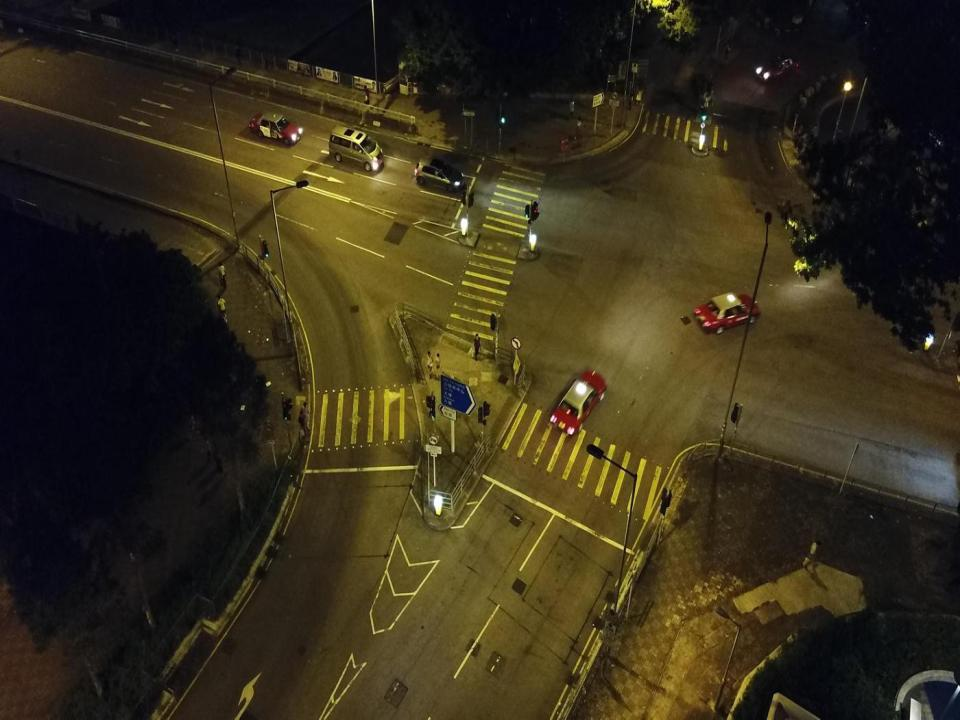car: (549, 368, 608, 437), (694, 292, 761, 334), (248, 111, 303, 147), (413, 155, 465, 192), (755, 48, 800, 82)
van: (329, 124, 384, 172)
